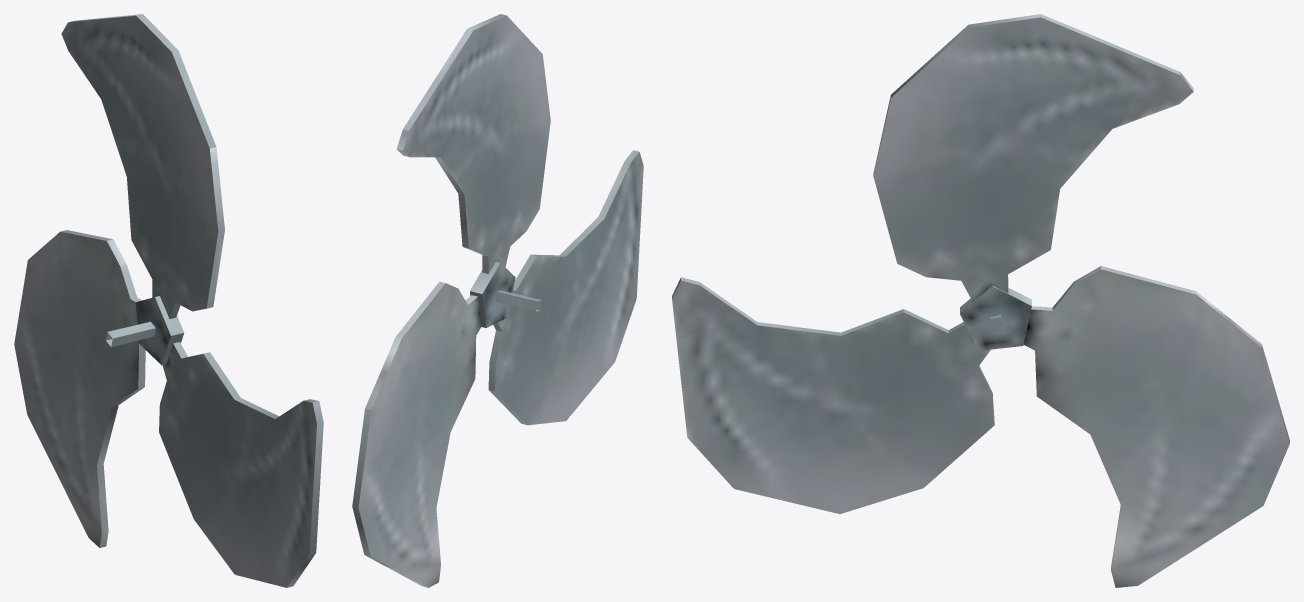
The model's file is blades_01-col.glb.
3 renders of one model, left to right at view 1: azimuth 30°, elevation 25°; view 2: azimuth 150°, elevation 25°; view 3: azimuth 270°, elevation 25°, orthographic. The views are drawn at different scales.
Parts seen in each view (by area): view 1: blades_01-col; view 2: blades_01-col; view 3: blades_01-col.
Part boxes in pixels (left/top/right/bottom): blades_01-col: left=14, top=14, right=323, bottom=587; blades_01-col: left=352, top=14, right=643, bottom=587; blades_01-col: left=672, top=14, right=1289, bottom=587.
Bounding box in the file's own units: 0.0798 × 0.7102 × 0.697.
1 material, 1 textured.
